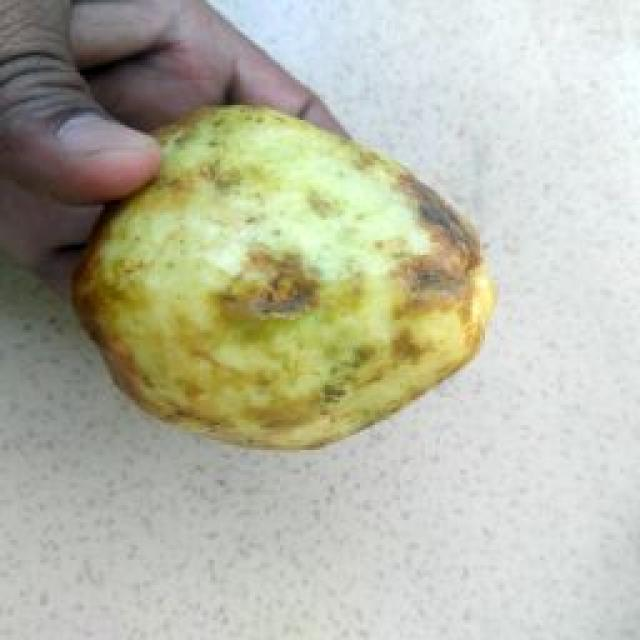Bad_Guava: (75, 108, 494, 447)
